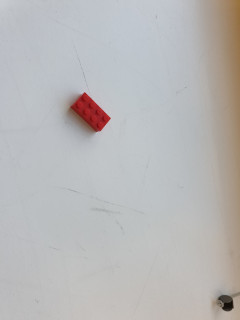2x4 red: (69, 90, 112, 133)
